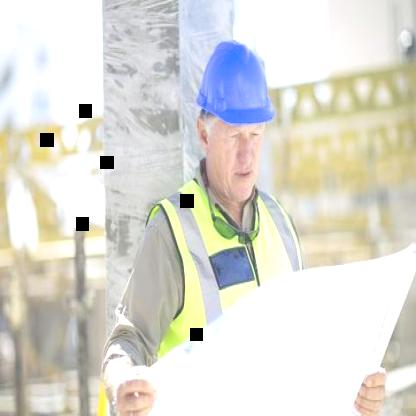helmet: (184, 23, 285, 218)
